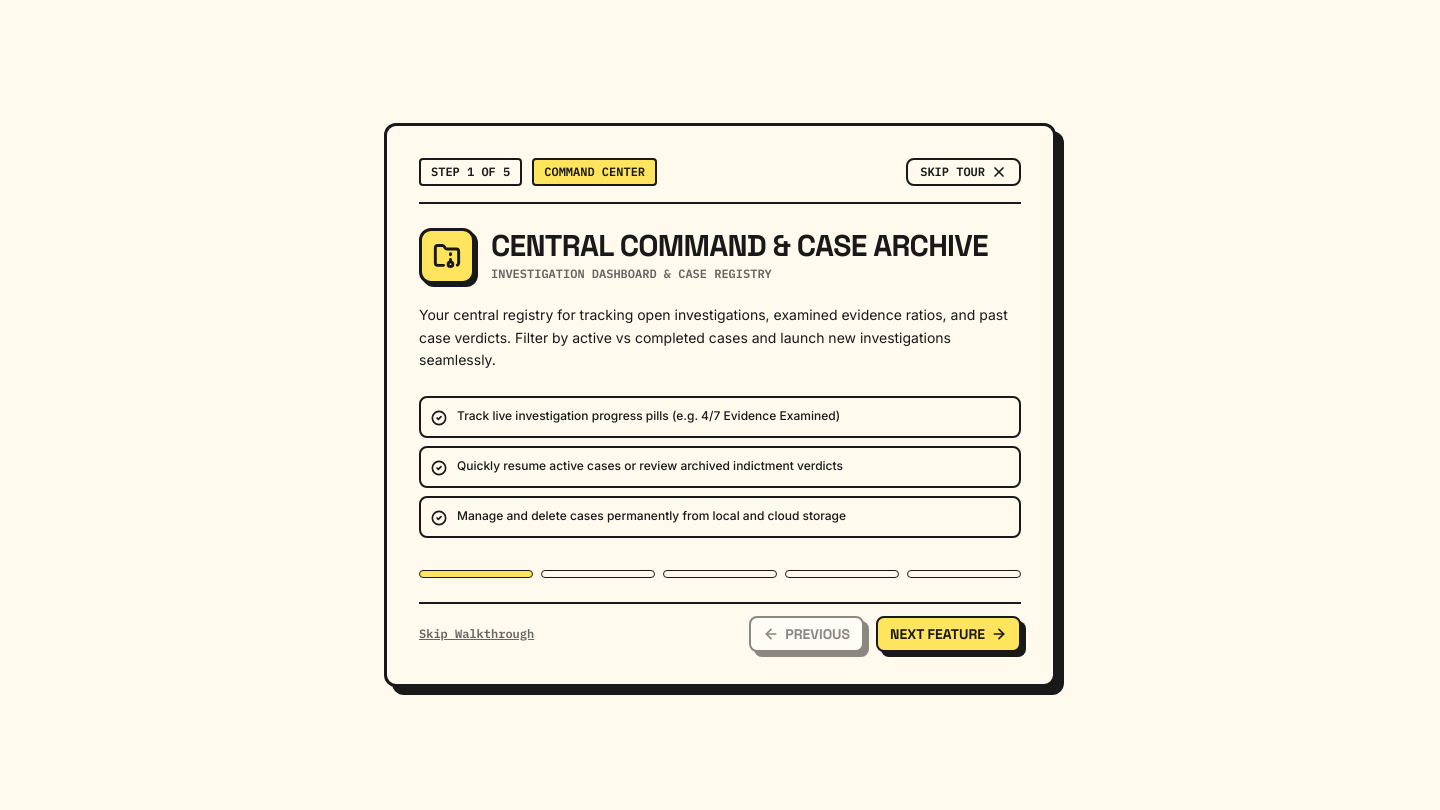
Test: PlatformWalkthrough Component › advances through all 5 feature steps using Next and Previous buttons
The width and height of the screenshot is (1440, 810).
Click the button "NEXT FEATURE". click: click(948, 634)
box: [876, 616, 1021, 652]
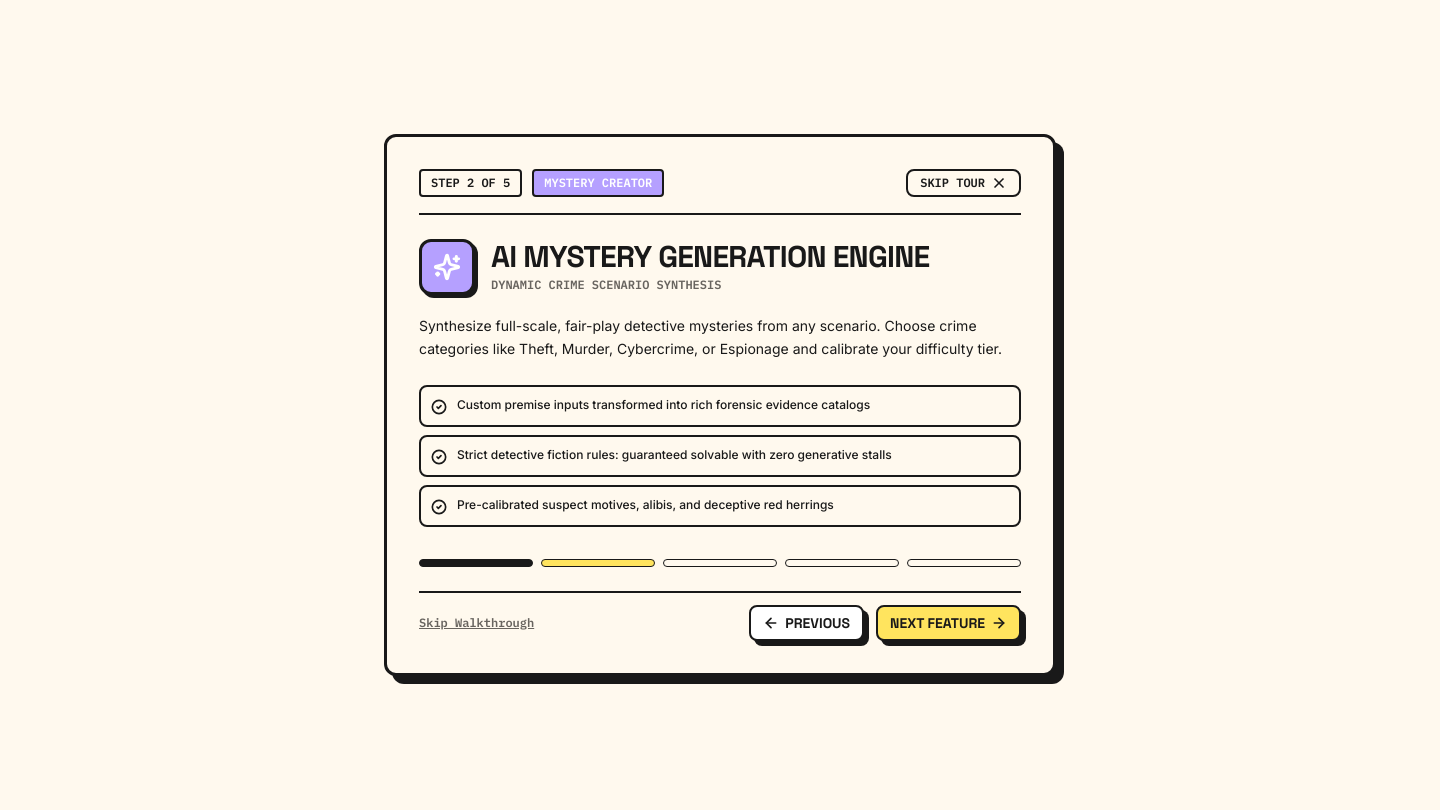
expect the text "STEP 2 OF 5" is shown: met, box [419, 169, 522, 197]
expect the heading "AI MYSTERY GENERATION ENGINE" is shown: met, box [491, 239, 929, 275]
Click the button "NEXT FEATURE". click: click(948, 623)
box: [876, 605, 1021, 641]
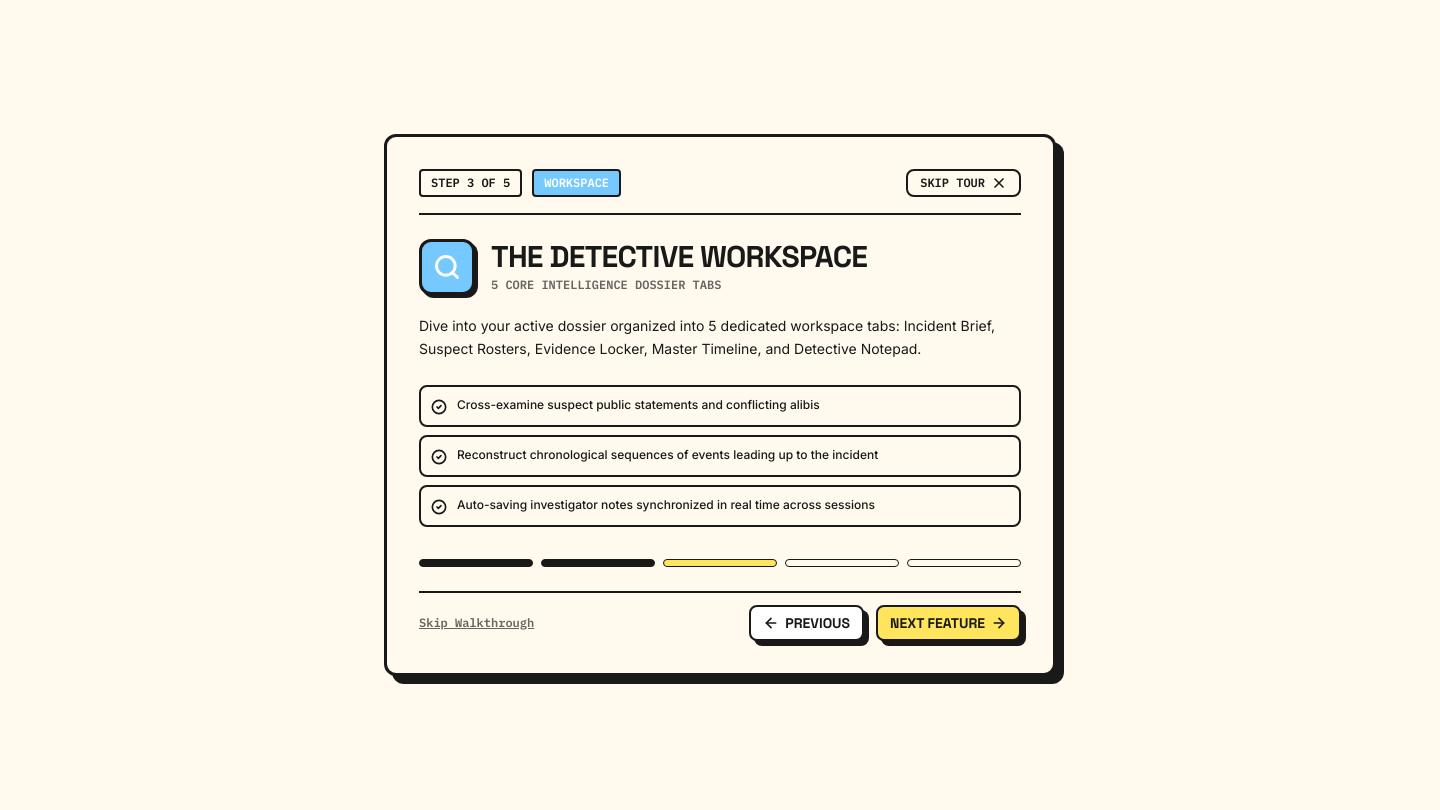
expect the text "STEP 3 OF 5" is shown: met, box [419, 169, 522, 197]
expect the heading "THE DETECTIVE WORKSPACE" is shown: met, box [491, 239, 867, 275]
Click the button "NEXT FEATURE". click: click(948, 623)
box: [876, 605, 1021, 641]
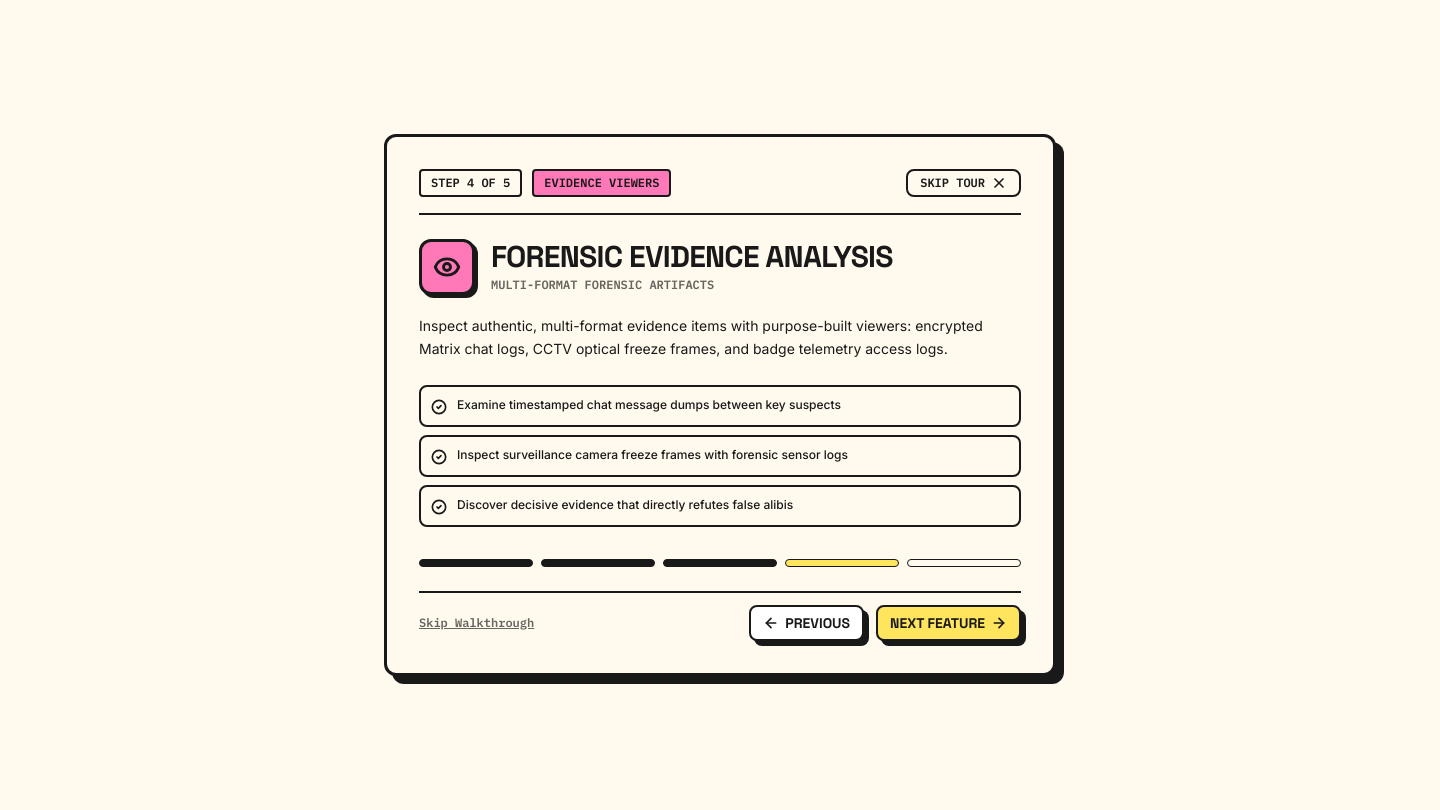
expect the text "STEP 4 OF 5" is shown: met, box [419, 169, 522, 197]
expect the heading "FORENSIC EVIDENCE ANALYSIS" is shown: met, box [491, 239, 893, 275]
Click the button "NEXT FEATURE". click: click(948, 623)
box: [876, 605, 1021, 641]
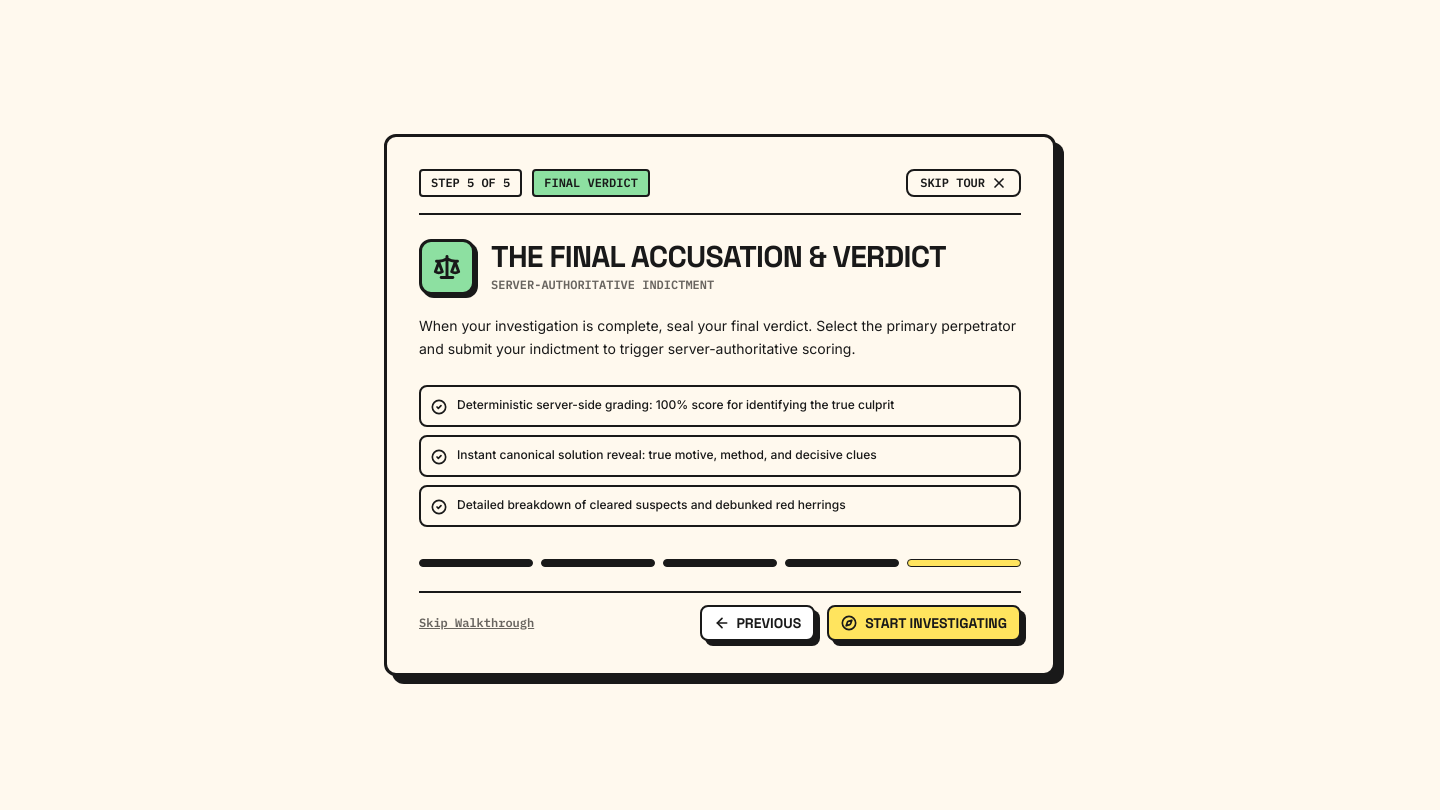
expect the text "STEP 5 OF 5" is shown: met, box [419, 169, 522, 197]
expect the heading "THE FINAL ACCUSATION & VERDICT" is shown: met, box [491, 239, 946, 275]
expect the button "START INVESTIGATING" is shown: met, box [827, 605, 1021, 641]
// Test Previous button
Click the button "PREVIOUS". click: click(758, 623)
box: [700, 605, 815, 641]
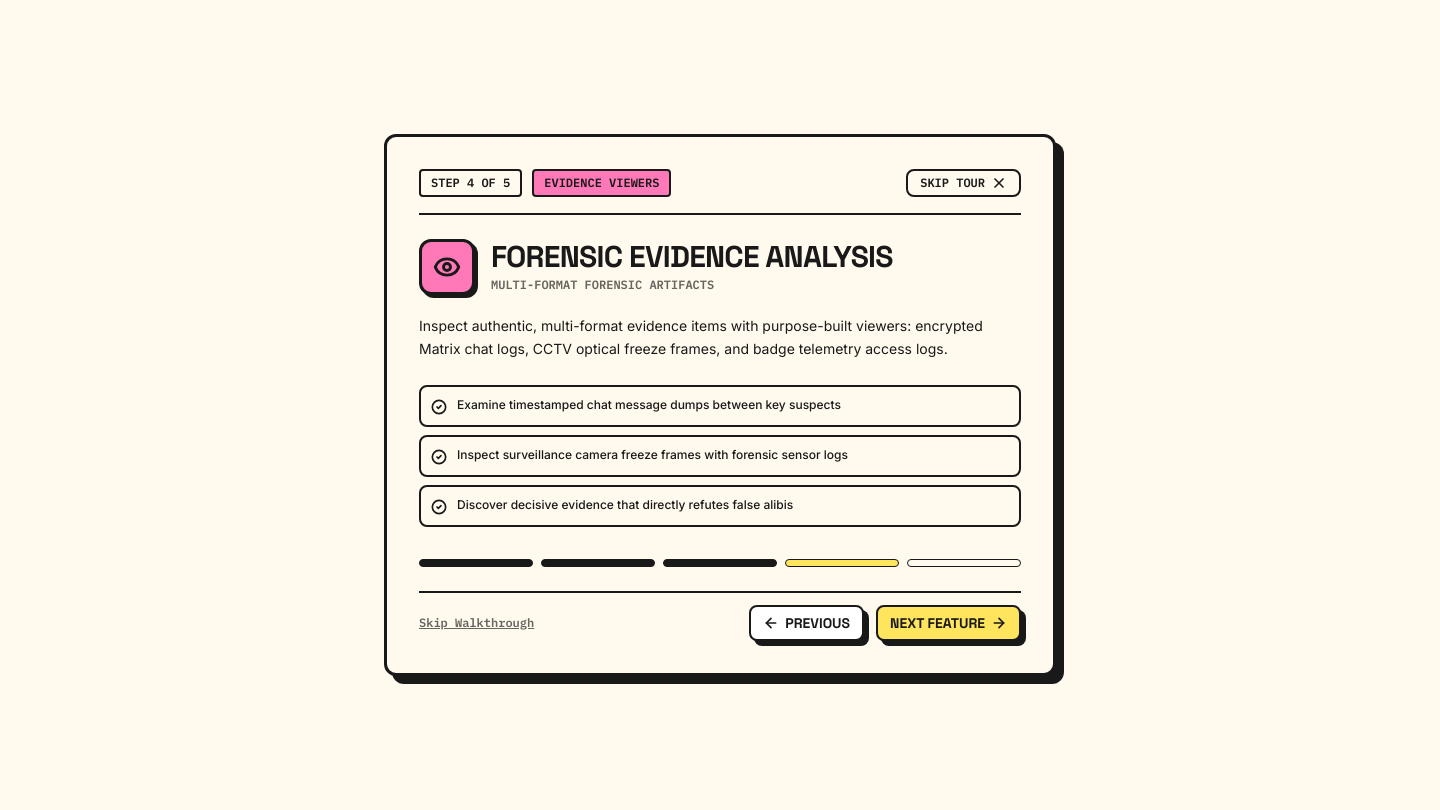
expect the text "STEP 4 OF 5" is shown: met, box [419, 169, 522, 197]
